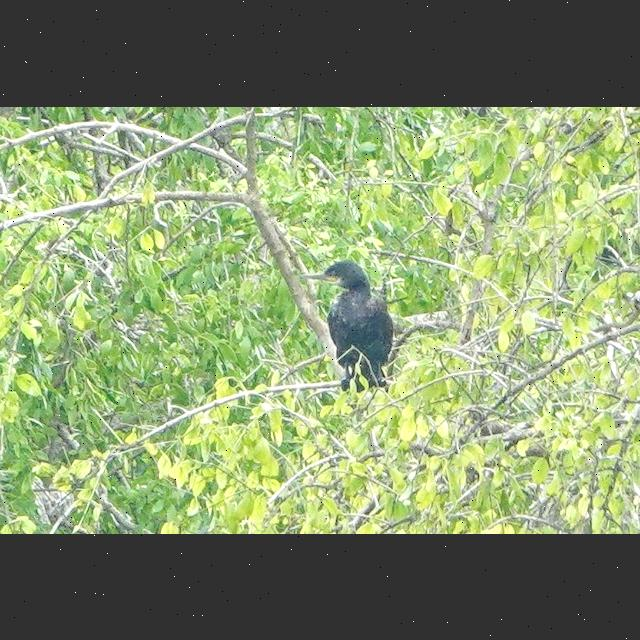cormorant: (297, 238, 407, 396)
